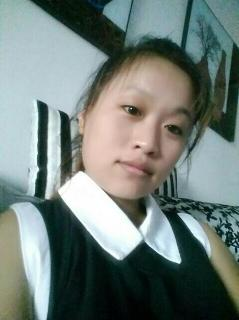short sleeve dress: (7, 171, 239, 319)
